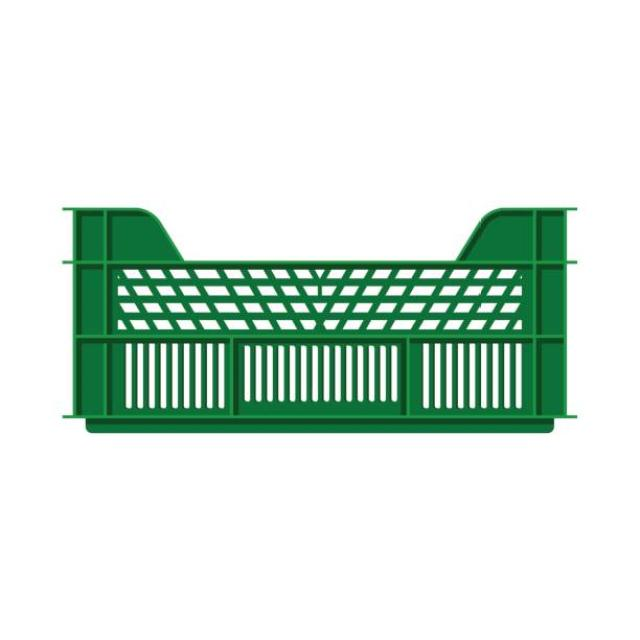basket: (66, 208, 574, 432)
